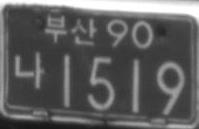0: (131, 19, 153, 49)
1: (53, 53, 81, 107), (121, 58, 148, 113)
5: (85, 56, 115, 111)
9: (156, 60, 185, 116), (106, 18, 128, 47)
나: (14, 51, 45, 89)
부산_O: (45, 12, 97, 47)
